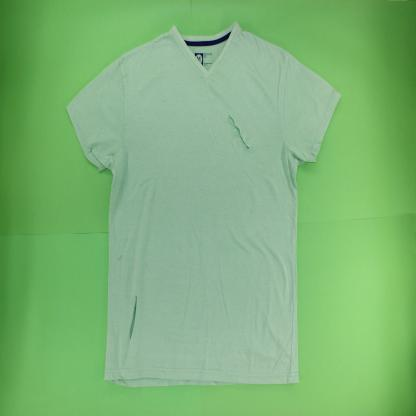hole: (227, 114, 251, 153), (128, 292, 138, 342)
